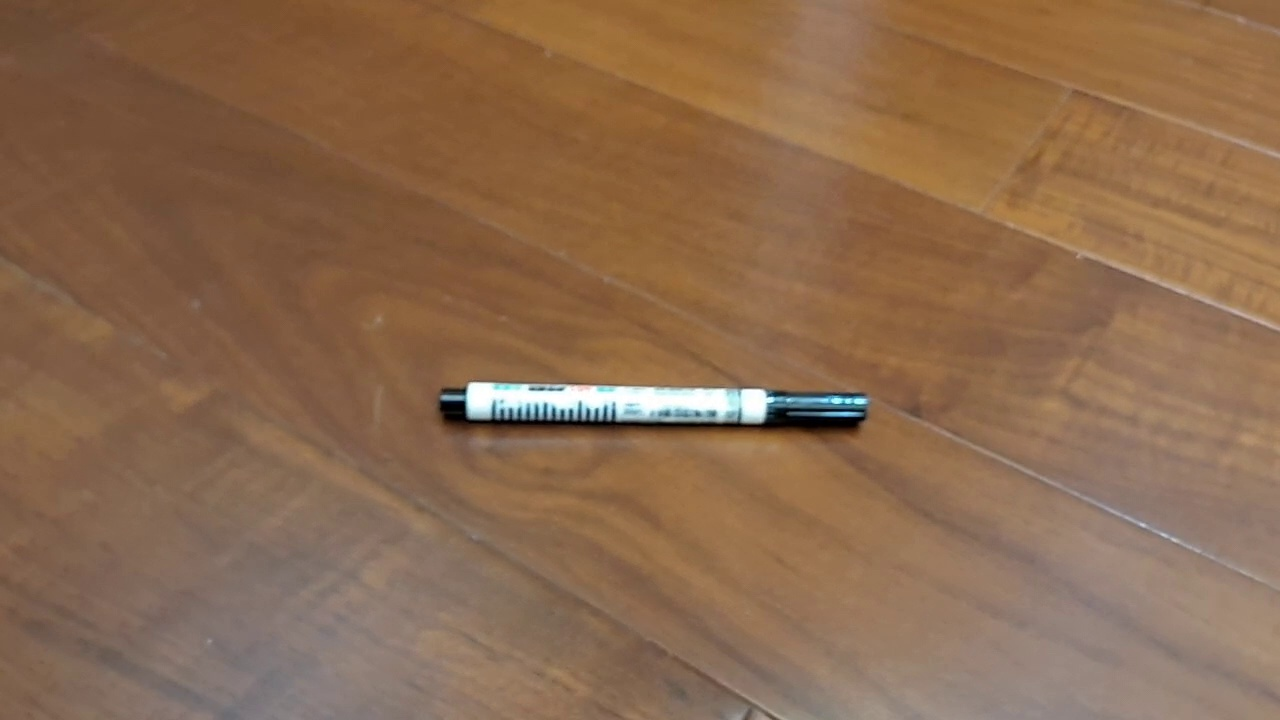pen: (438, 380, 870, 429)
